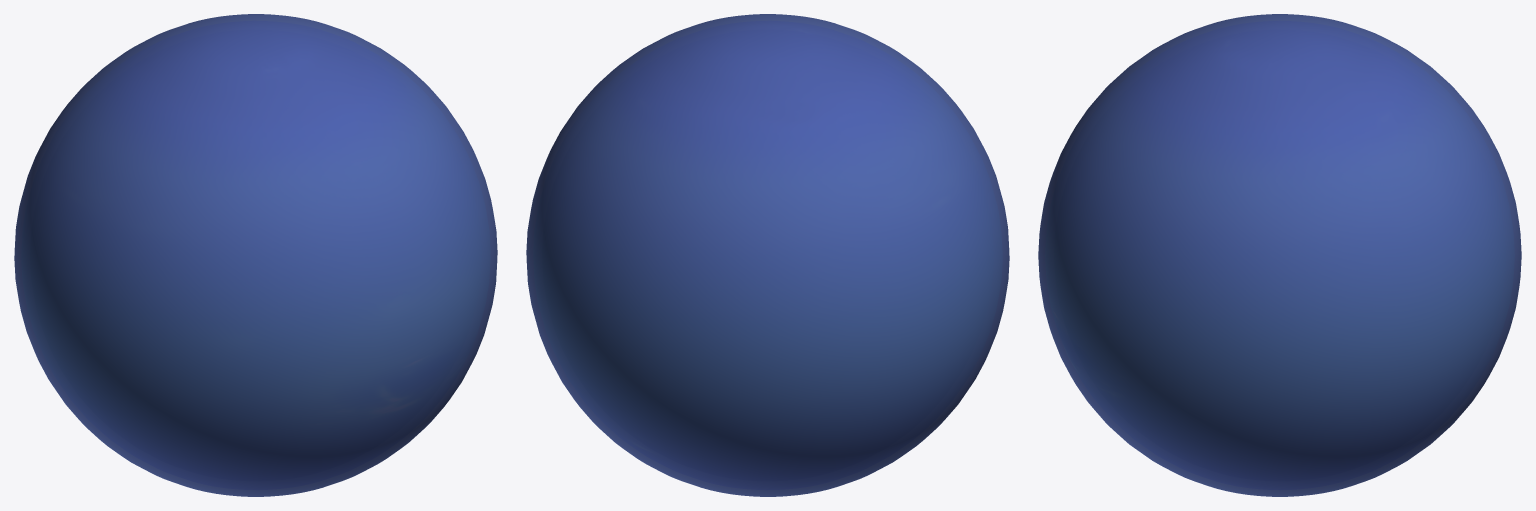
3 views of the same model, side by side, from view 1: azimuth 30°, elevation 25°; view 2: azimuth 150°, elevation 25°; view 3: azimuth 270°, elevation 25° (orthographic).
Parts seen in each view (by area): view 1: SphereThree; view 2: SphereThree; view 3: SphereThree.
Part boxes in pixels (x1,y1,x2,y2): SphereThree: (14, 14, 497, 496); SphereThree: (526, 14, 1009, 496); SphereThree: (1038, 14, 1521, 496).
Size of the model in its own units: 1917 by 1917 by 1917.
